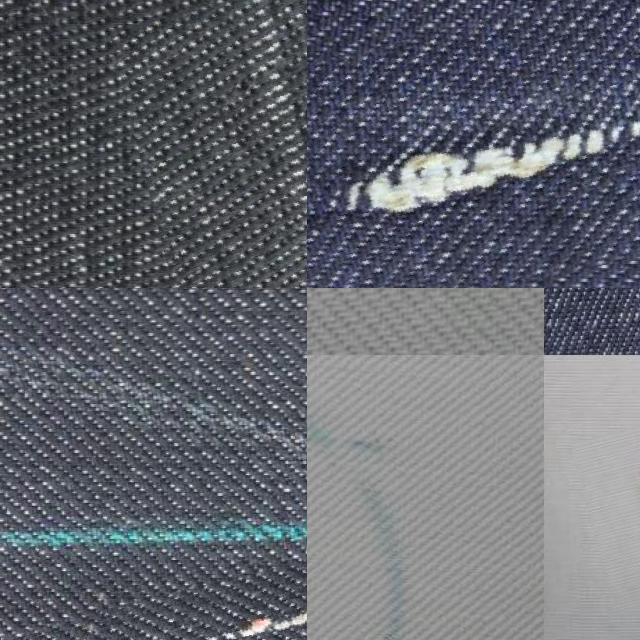Thread_other: (580, 410, 640, 604)
stains: (307, 0, 640, 288), (144, 0, 307, 288), (0, 555, 307, 640)
